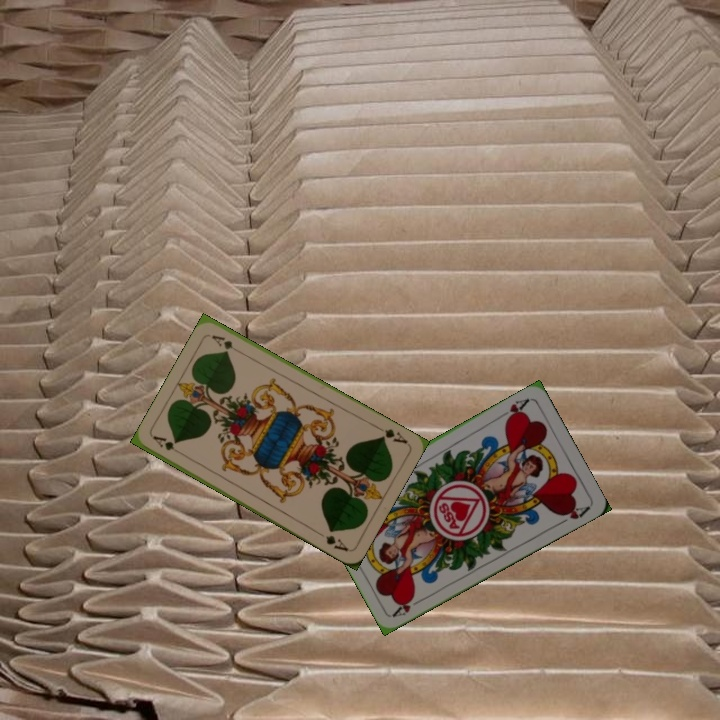GA: (149, 432, 187, 458), (372, 422, 410, 447)
HA: (495, 394, 532, 425), (389, 591, 427, 619)
